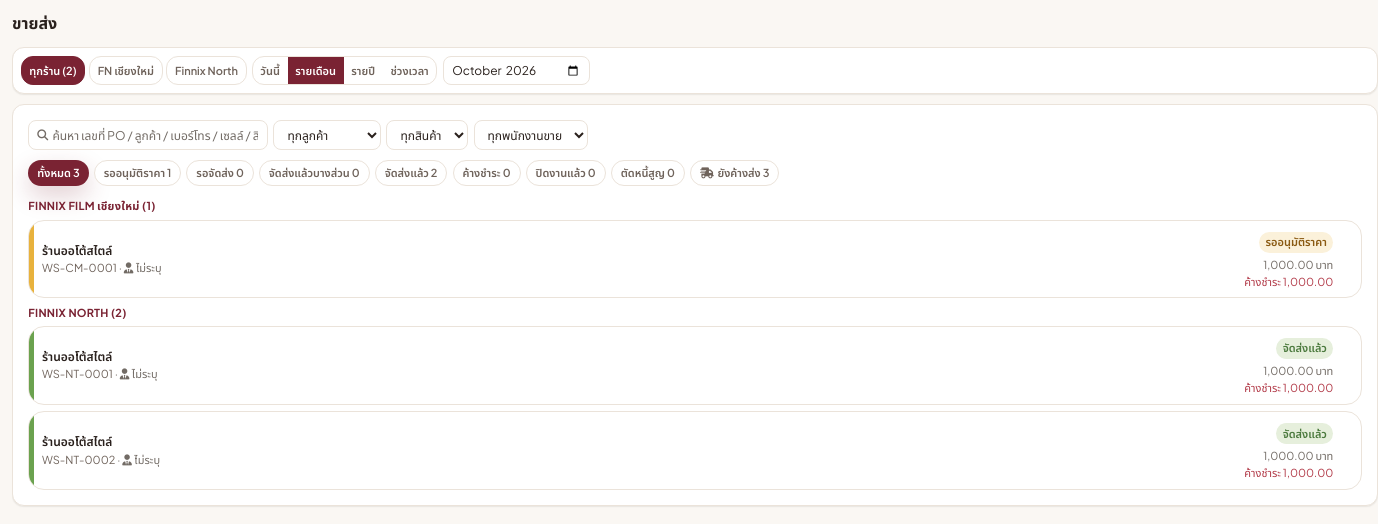
it: WholesaleList — ตัวเลขบนปุ่มสถานะ › counts only the branch in view
Click the button "Finnix North": (206, 71) [166,56,247,85]
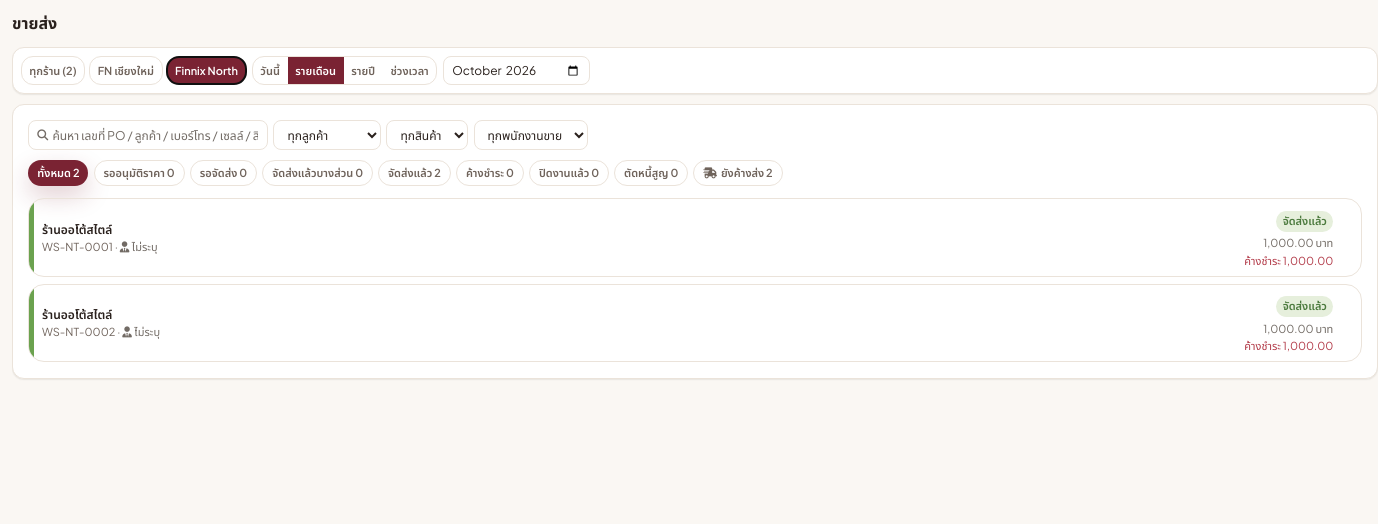
expect the button "จัดส่งแล้ว 2" is shown: met, box [378,160,451,186]
expect the button "ทั้งหมด 2" is shown: met, box [28,160,88,186]
expect the button "รออนุมัติราคา 0" is shown: met, box [94,160,185,186]
